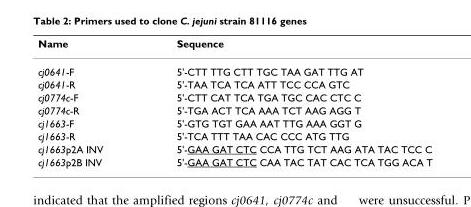table: (37, 36, 431, 167)
table column: (139, 36, 431, 167), (37, 36, 139, 167)
table column header: (37, 36, 431, 57)
table row: (37, 36, 431, 57), (37, 57, 431, 77), (37, 77, 431, 90), (37, 90, 431, 103), (37, 103, 431, 116), (37, 116, 431, 129), (37, 129, 431, 142), (37, 142, 431, 155), (37, 155, 431, 167)
